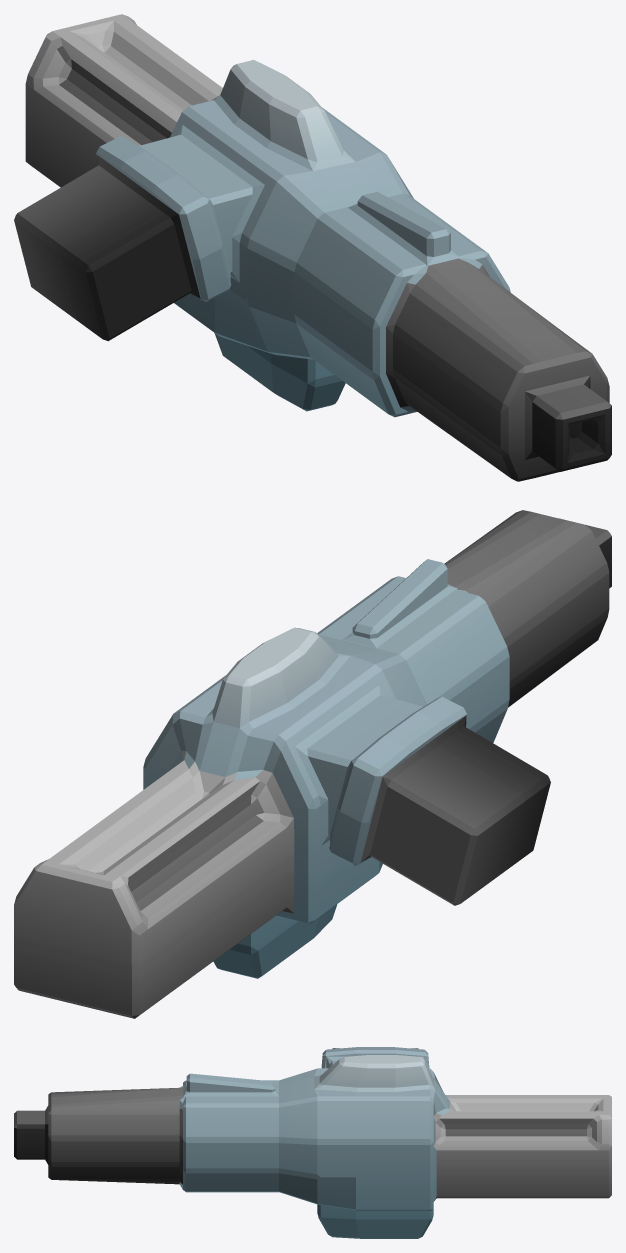
The model's file is Gun_Sub1.fbx.
The picture shows the model from 3 angles, top to bottom: view 1: azimuth 30°, elevation 25°; view 2: azimuth 150°, elevation 25°; view 3: azimuth 270°, elevation 25°; orthographic projection. The views are drawn at different scales.
Parts seen in each view (by area): view 1: Gun_Sub_1; view 2: Gun_Sub_1; view 3: Gun_Sub_1.
Part boxes in pixels (<box>): Gun_Sub_1: <box>14,14,611,481</box>; Gun_Sub_1: <box>14,510,611,1018</box>; Gun_Sub_1: <box>14,1047,611,1238</box>.
Size of the model in its own units: 19.4 by 17.07 by 53.07.
